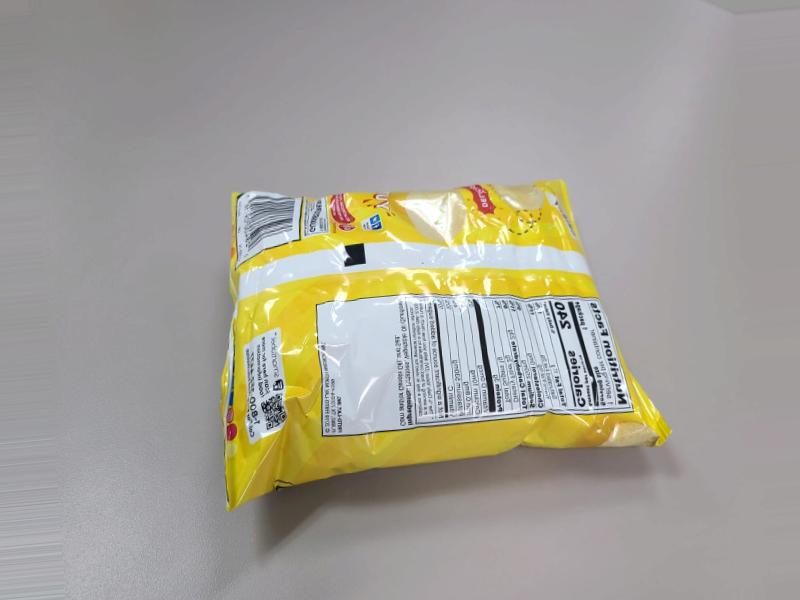lays: (237, 175, 658, 506)
